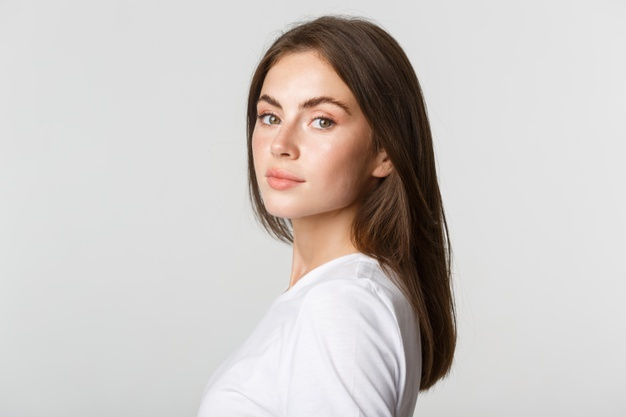Without Helmet: (235, 13, 446, 266)
